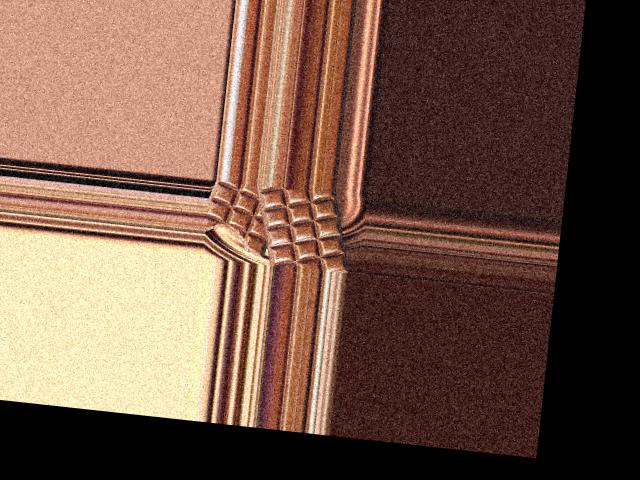chocolate: (247, 183, 358, 272)
